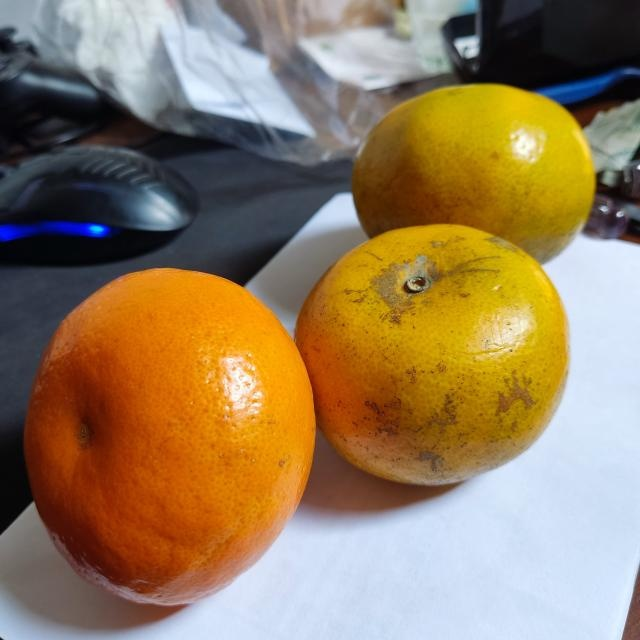agrume: (293, 221, 572, 489), (352, 82, 596, 274)
